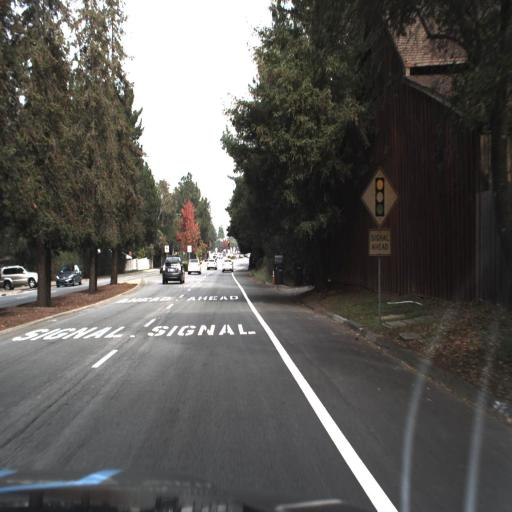car: (51, 258, 87, 294), (0, 263, 39, 291), (157, 253, 185, 287), (218, 253, 238, 280), (185, 252, 202, 274), (205, 254, 218, 275)
